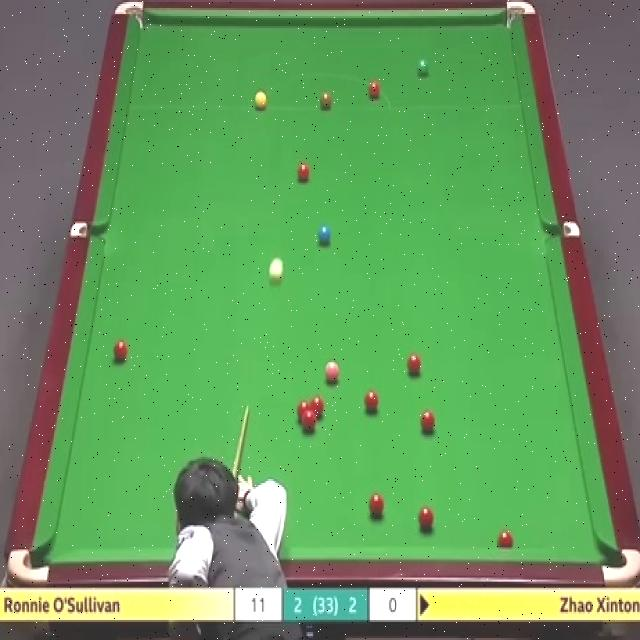blue-ball: (317, 225, 332, 246)
brown-ball: (319, 88, 332, 109)
green-ball: (414, 56, 429, 78)
pink-ball: (324, 361, 341, 386)
red-ball: (416, 505, 435, 532), (407, 352, 423, 378), (368, 489, 382, 518), (420, 410, 434, 437), (113, 340, 127, 367), (295, 161, 311, 184), (296, 400, 310, 426), (364, 388, 379, 412), (302, 413, 318, 433), (498, 528, 514, 548), (366, 79, 381, 100), (311, 396, 324, 420)
white-ball: (267, 258, 284, 285)
yellow-ball: (253, 91, 268, 110)
